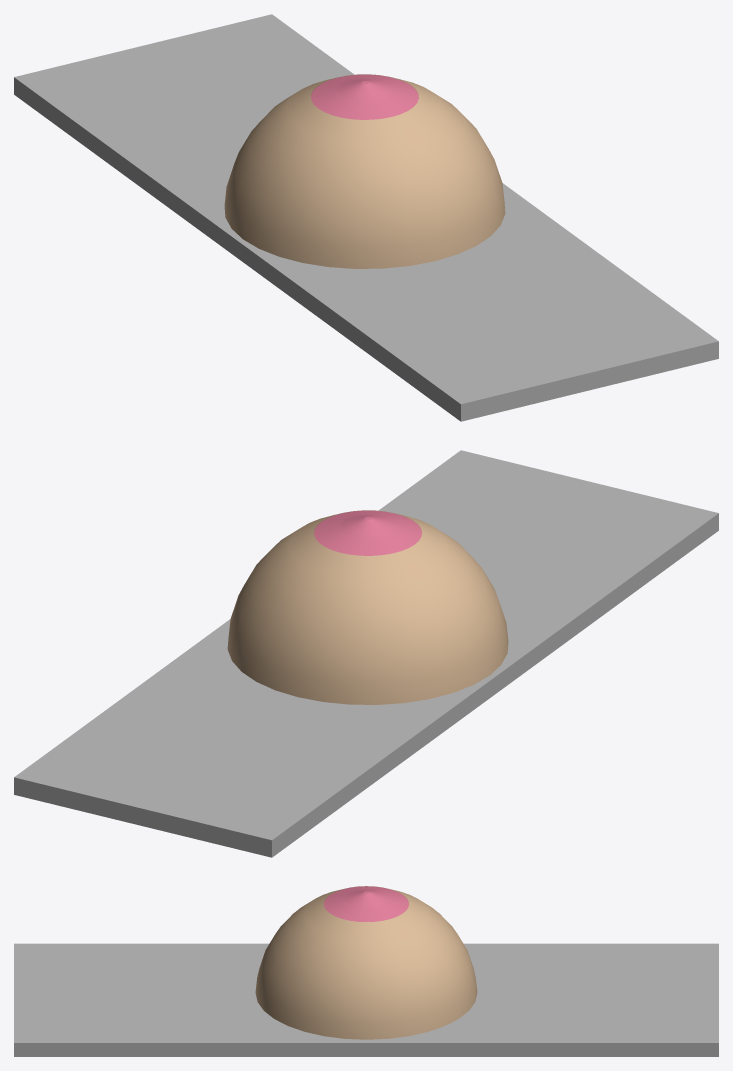
Rendered from AsianTit.fbx.
The picture shows the model from 3 angles, top to bottom: view 1: azimuth 30°, elevation 25°; view 2: azimuth 150°, elevation 25°; view 3: azimuth 270°, elevation 25°; orthographic projection. The views are drawn at different scales.
Parts seen in each view (by area): view 1: Box001, nip; view 2: Box001, nip; view 3: Box001, nip.
Part boxes in pixels (x1,y1,x2,y2): Box001: [14, 14, 718, 421]; nip: [224, 74, 505, 268]; Box001: [14, 450, 718, 857]; nip: [227, 510, 508, 704]; Box001: [14, 943, 718, 1056]; nip: [255, 886, 477, 1039].
Bounding box in the file's own units: 0.6158 × 0.3303 × 1.85.
